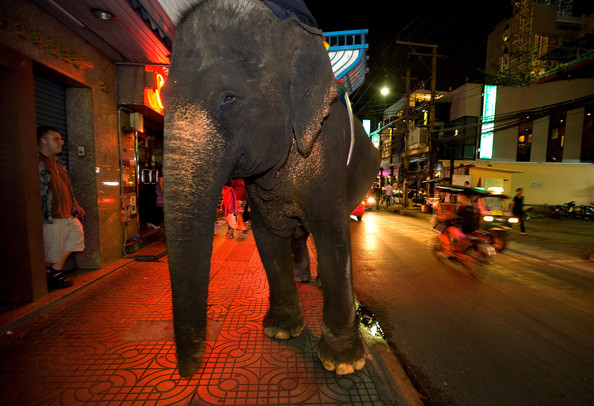Indian Elephant: (132, 1, 405, 387)
